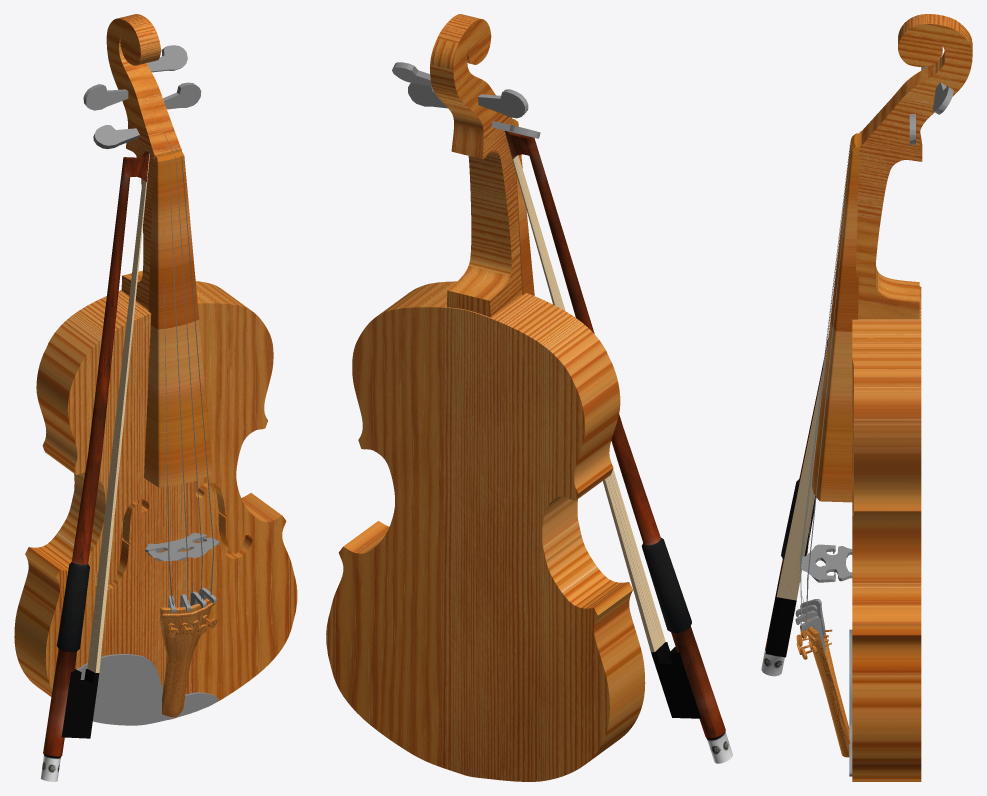
The model's file is Violin with stick.FBX.
3 renders of one model, left to right at view 1: azimuth 30°, elevation 25°; view 2: azimuth 150°, elevation 25°; view 3: azimuth 270°, elevation 25°, orthographic. The views are drawn at different scales.
Visible parts, largest first — view 1: Line001, Cylinder001, arch67_12_10, Line002, Line008, arch67_12_19, arch67_12_16, Line007, Line006, Line005, Line003, Line004 (+1 smaller); view 2: Line001, Cylinder001, Line002, arch67_12_10, Line006; view 3: Line001, Line002, arch67_12_10, Cylinder001, arch67_12_19, arch67_12_16, Line007, Line008, Line003, arch67_12_18.
Boxes of the visible parts, <box> form: Line001: <box>14,281,297,719</box>; Cylinder001: <box>40,150,149,781</box>; arch67_12_10: <box>144,150,212,487</box>; Line002: <box>106,14,181,309</box>; Line008: <box>76,654,217,725</box>; arch67_12_19: <box>160,598,214,717</box>; arch67_12_16: <box>162,134,214,605</box>; Line007: <box>145,532,219,560</box>; Line006: <box>83,84,128,110</box>; Line005: <box>93,125,139,149</box>; Line003: <box>147,45,187,72</box>; Line004: <box>163,82,201,109</box>; Line001: <box>326,281,645,781</box>; Cylinder001: <box>504,130,732,763</box>; Line002: <box>430,14,522,317</box>; arch67_12_10: <box>513,119,534,295</box>; Line006: <box>477,89,528,118</box>; Line001: <box>852,286,921,781</box>; Line002: <box>855,14,972,319</box>; arch67_12_10: <box>811,133,859,502</box>; Cylinder001: <box>761,336,828,676</box>; arch67_12_19: <box>804,619,850,757</box>; arch67_12_16: <box>788,142,858,629</box>; Line007: <box>800,544,852,582</box>; Line008: <box>849,629,852,776</box>; Line003: <box>932,82,953,114</box>; arch67_12_18: <box>796,629,832,659</box>.
Size of the model in its own units: 9.47 by 20.89 by 5.39.
Materials: 4 (2 with a texture image).
